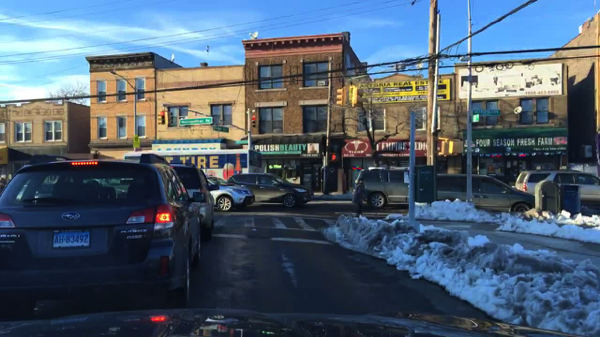car: (0, 159, 201, 320), (433, 173, 535, 214), (168, 163, 216, 240), (228, 173, 311, 209), (352, 166, 410, 209), (205, 176, 255, 213), (546, 172, 598, 206), (514, 170, 579, 195)
person: (351, 178, 366, 218)
traffic light: (351, 86, 364, 107), (156, 110, 169, 125), (336, 87, 346, 106), (253, 114, 257, 129), (330, 153, 337, 161)
traffic sign: (179, 118, 212, 127), (471, 109, 499, 118), (211, 126, 229, 132), (132, 134, 139, 147)
